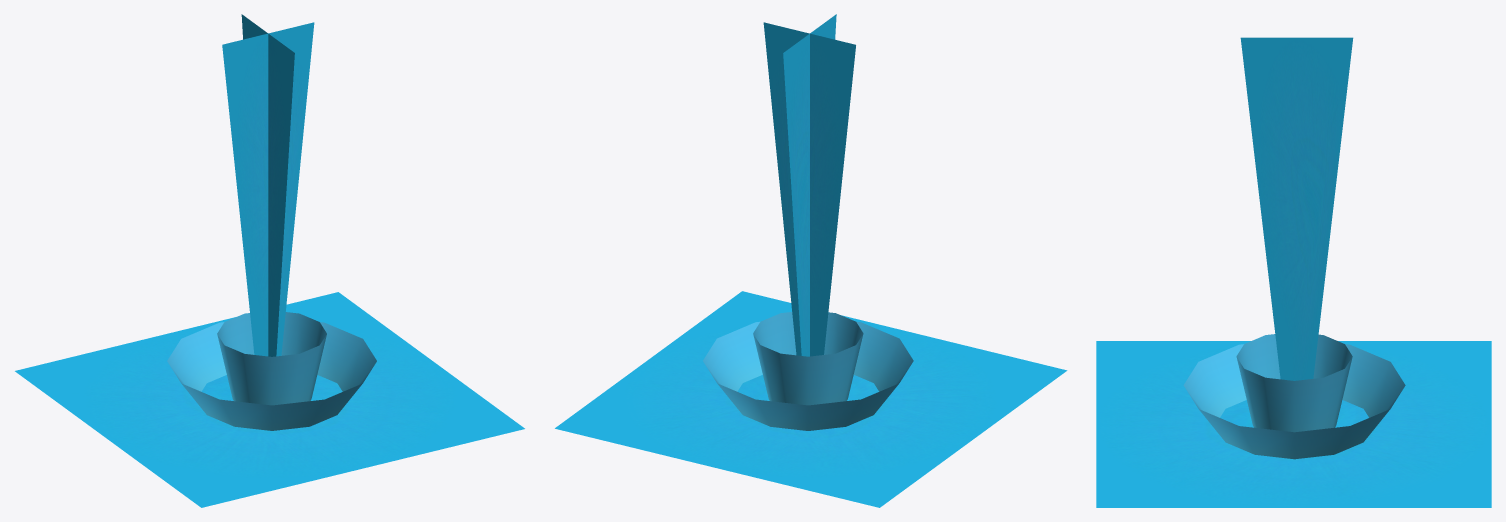
Rendered from battery.FBX.
The picture shows the model from 3 angles, left to right: view 1: azimuth 30°, elevation 25°; view 2: azimuth 150°, elevation 25°; view 3: azimuth 270°, elevation 25°; orthographic projection. The views are drawn at different scales.
Parts seen in each view (by area): view 1: floor_highlight, far_highlight, low_highlight, near_highlight; view 2: floor_highlight, far_highlight, low_highlight, near_highlight; view 3: floor_highlight, far_highlight, low_highlight, near_highlight.
Boxes of the visible parts, x1,y1,x2,y2 form: floor_highlight: (15, 292, 524, 507); far_highlight: (222, 14, 314, 356); low_highlight: (167, 322, 376, 430); near_highlight: (217, 312, 326, 405); floor_highlight: (555, 291, 1067, 507); far_highlight: (763, 14, 855, 356); low_highlight: (703, 321, 913, 430); near_highlight: (753, 312, 863, 405); floor_highlight: (1096, 341, 1491, 507); far_highlight: (1240, 37, 1353, 380); low_highlight: (1183, 344, 1405, 459); near_highlight: (1236, 334, 1352, 432).
Bounding box in the file's own units: 224 × 242 × 224.
